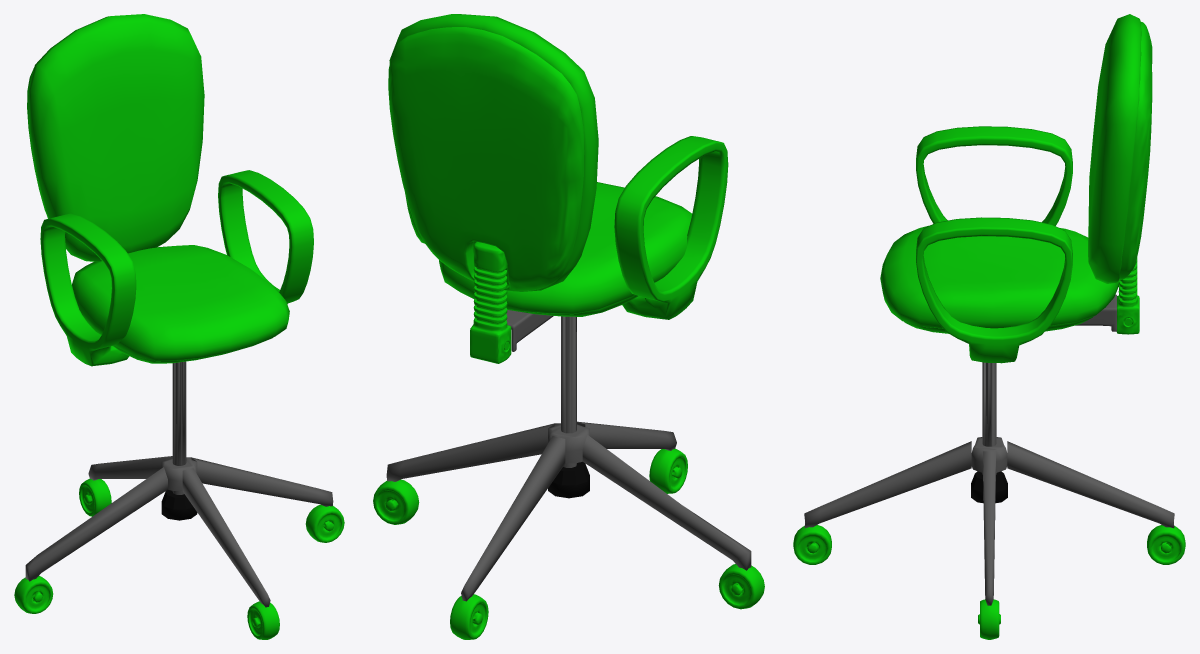
The model's file is chair-high-green.obj.
The picture shows the model from 3 angles, left to right: view 1: azimuth 30°, elevation 25°; view 2: azimuth 150°, elevation 25°; view 3: azimuth 270°, elevation 25°; orthographic projection. The views are drawn at different scales.
Visible parts, largest first — view 1: chair-high_Material.033, chair-high_Material.034, chair-high_Material.001; view 2: chair-high_Material.033, chair-high_Material.034, chair-high_Material.001; view 3: chair-high_Material.033, chair-high_Material.034, chair-high_Material.001.
Boxes of the visible parts, <box> form: chair-high_Material.033: <box>14,14,344,639</box>; chair-high_Material.034: <box>25,361,333,607</box>; chair-high_Material.001: <box>161,490,197,520</box>; chair-high_Material.033: <box>373,14,764,639</box>; chair-high_Material.034: <box>386,310,751,601</box>; chair-high_Material.001: <box>548,461,589,498</box>; chair-high_Material.033: <box>793,14,1185,639</box>; chair-high_Material.034: <box>804,294,1174,605</box>; chair-high_Material.001: <box>971,471,1007,503</box>.
Bounding box in the file's own units: 38.33 × 57.99 × 38.33.
